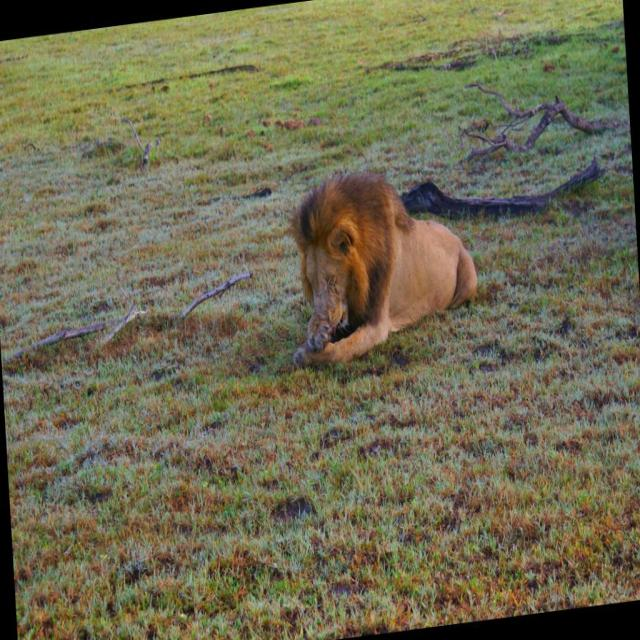Lion: (282, 155, 482, 375)
